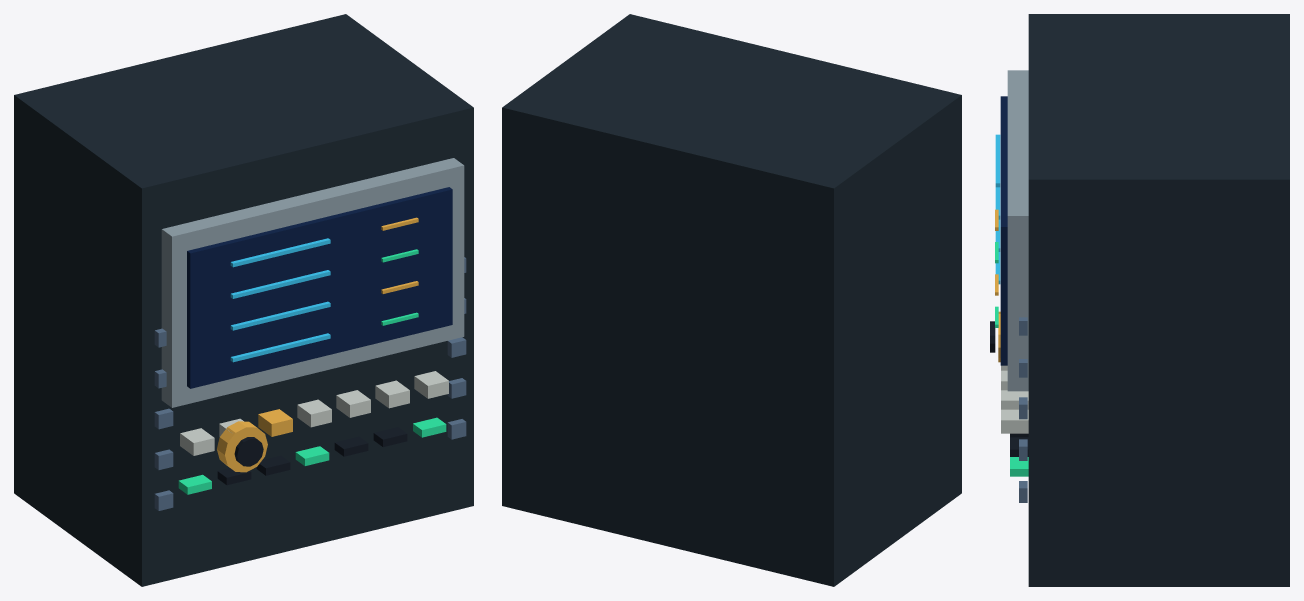
The model's file is 51_L84_InertialReferenceClock.fbx.
3 renders of one model, left to right at view 1: azimuth 30°, elevation 25°; view 2: azimuth 150°, elevation 25°; view 3: azimuth 270°, elevation 25°, orthographic. The views are drawn at different scales.
Parts seen in each view (by area): view 1: L84_InertialReferenceClock, L84_InertialReferenceClock_Part_0009, L84_InertialReferenceClock_Part_0010; view 2: L84_InertialReferenceClock; view 3: L84_InertialReferenceClock.
Part boxes in pixels (left/top/right/bottom): L84_InertialReferenceClock: left=14, top=14, right=473, bottom=586; L84_InertialReferenceClock_Part_0009: left=217, top=421, right=267, bottom=472; L84_InertialReferenceClock_Part_0010: left=234, top=437, right=263, bottom=466; L84_InertialReferenceClock: left=502, top=14, right=961, bottom=586; L84_InertialReferenceClock: left=995, top=14, right=1289, bottom=586.
Size of the model in its own units: 99.96 by 115 by 76.52.
